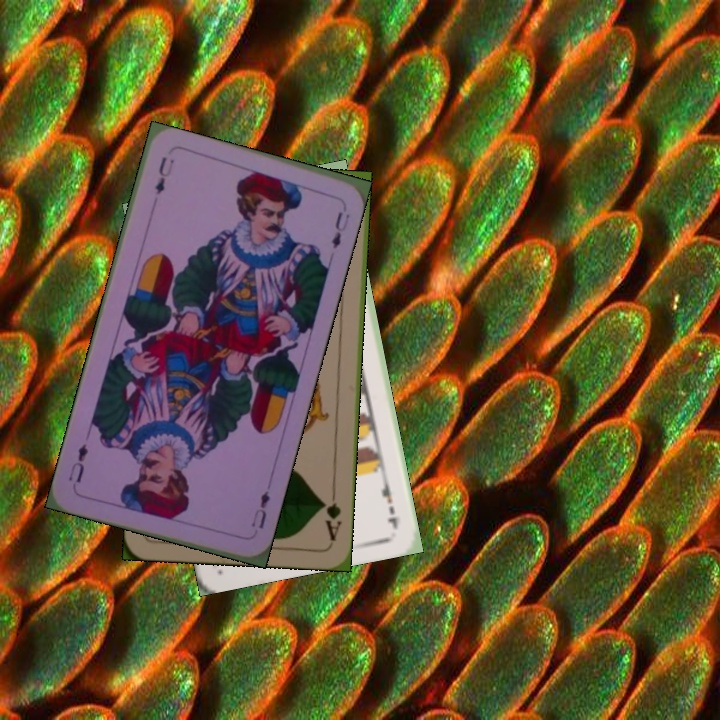E7: (377, 472, 401, 531)
EU: (247, 487, 273, 531), (151, 152, 176, 197)
GA: (318, 485, 344, 543)
